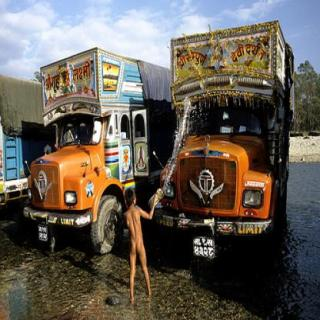Normal_vehicle: (20, 35, 124, 251)
